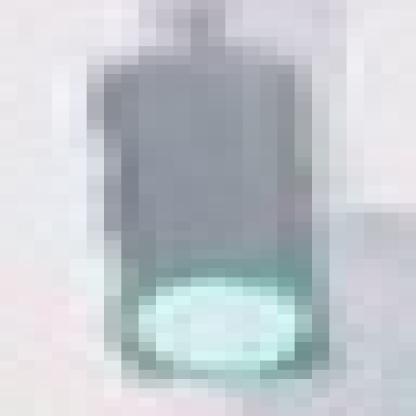Green Light: (94, 52, 332, 380)
